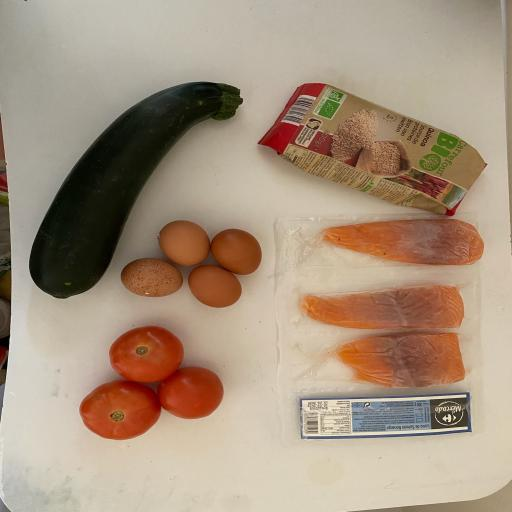courgette: (27, 77, 246, 302)
egg: (118, 252, 191, 301), (155, 214, 213, 270), (184, 262, 246, 312), (208, 222, 264, 276)
quinoa: (256, 79, 490, 216)
salmon: (310, 214, 488, 270), (294, 283, 470, 334), (333, 332, 469, 390)
tomato: (74, 376, 162, 446), (101, 321, 186, 386), (153, 363, 225, 420)
